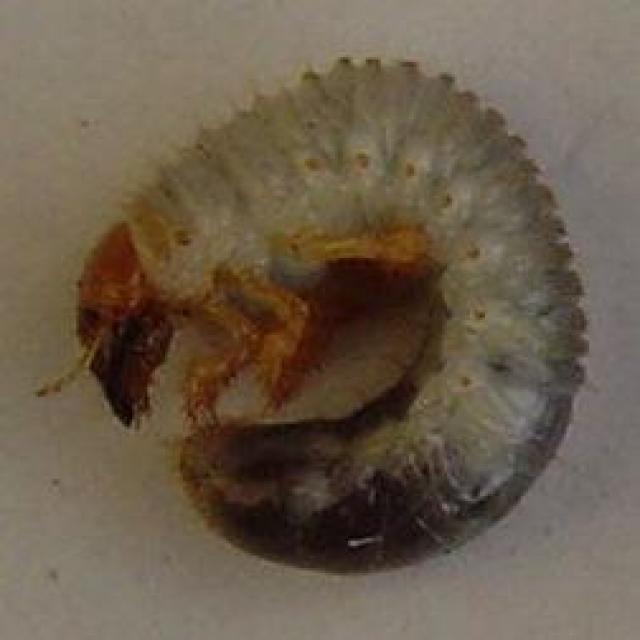Grub-Adult-: (63, 36, 580, 568)
